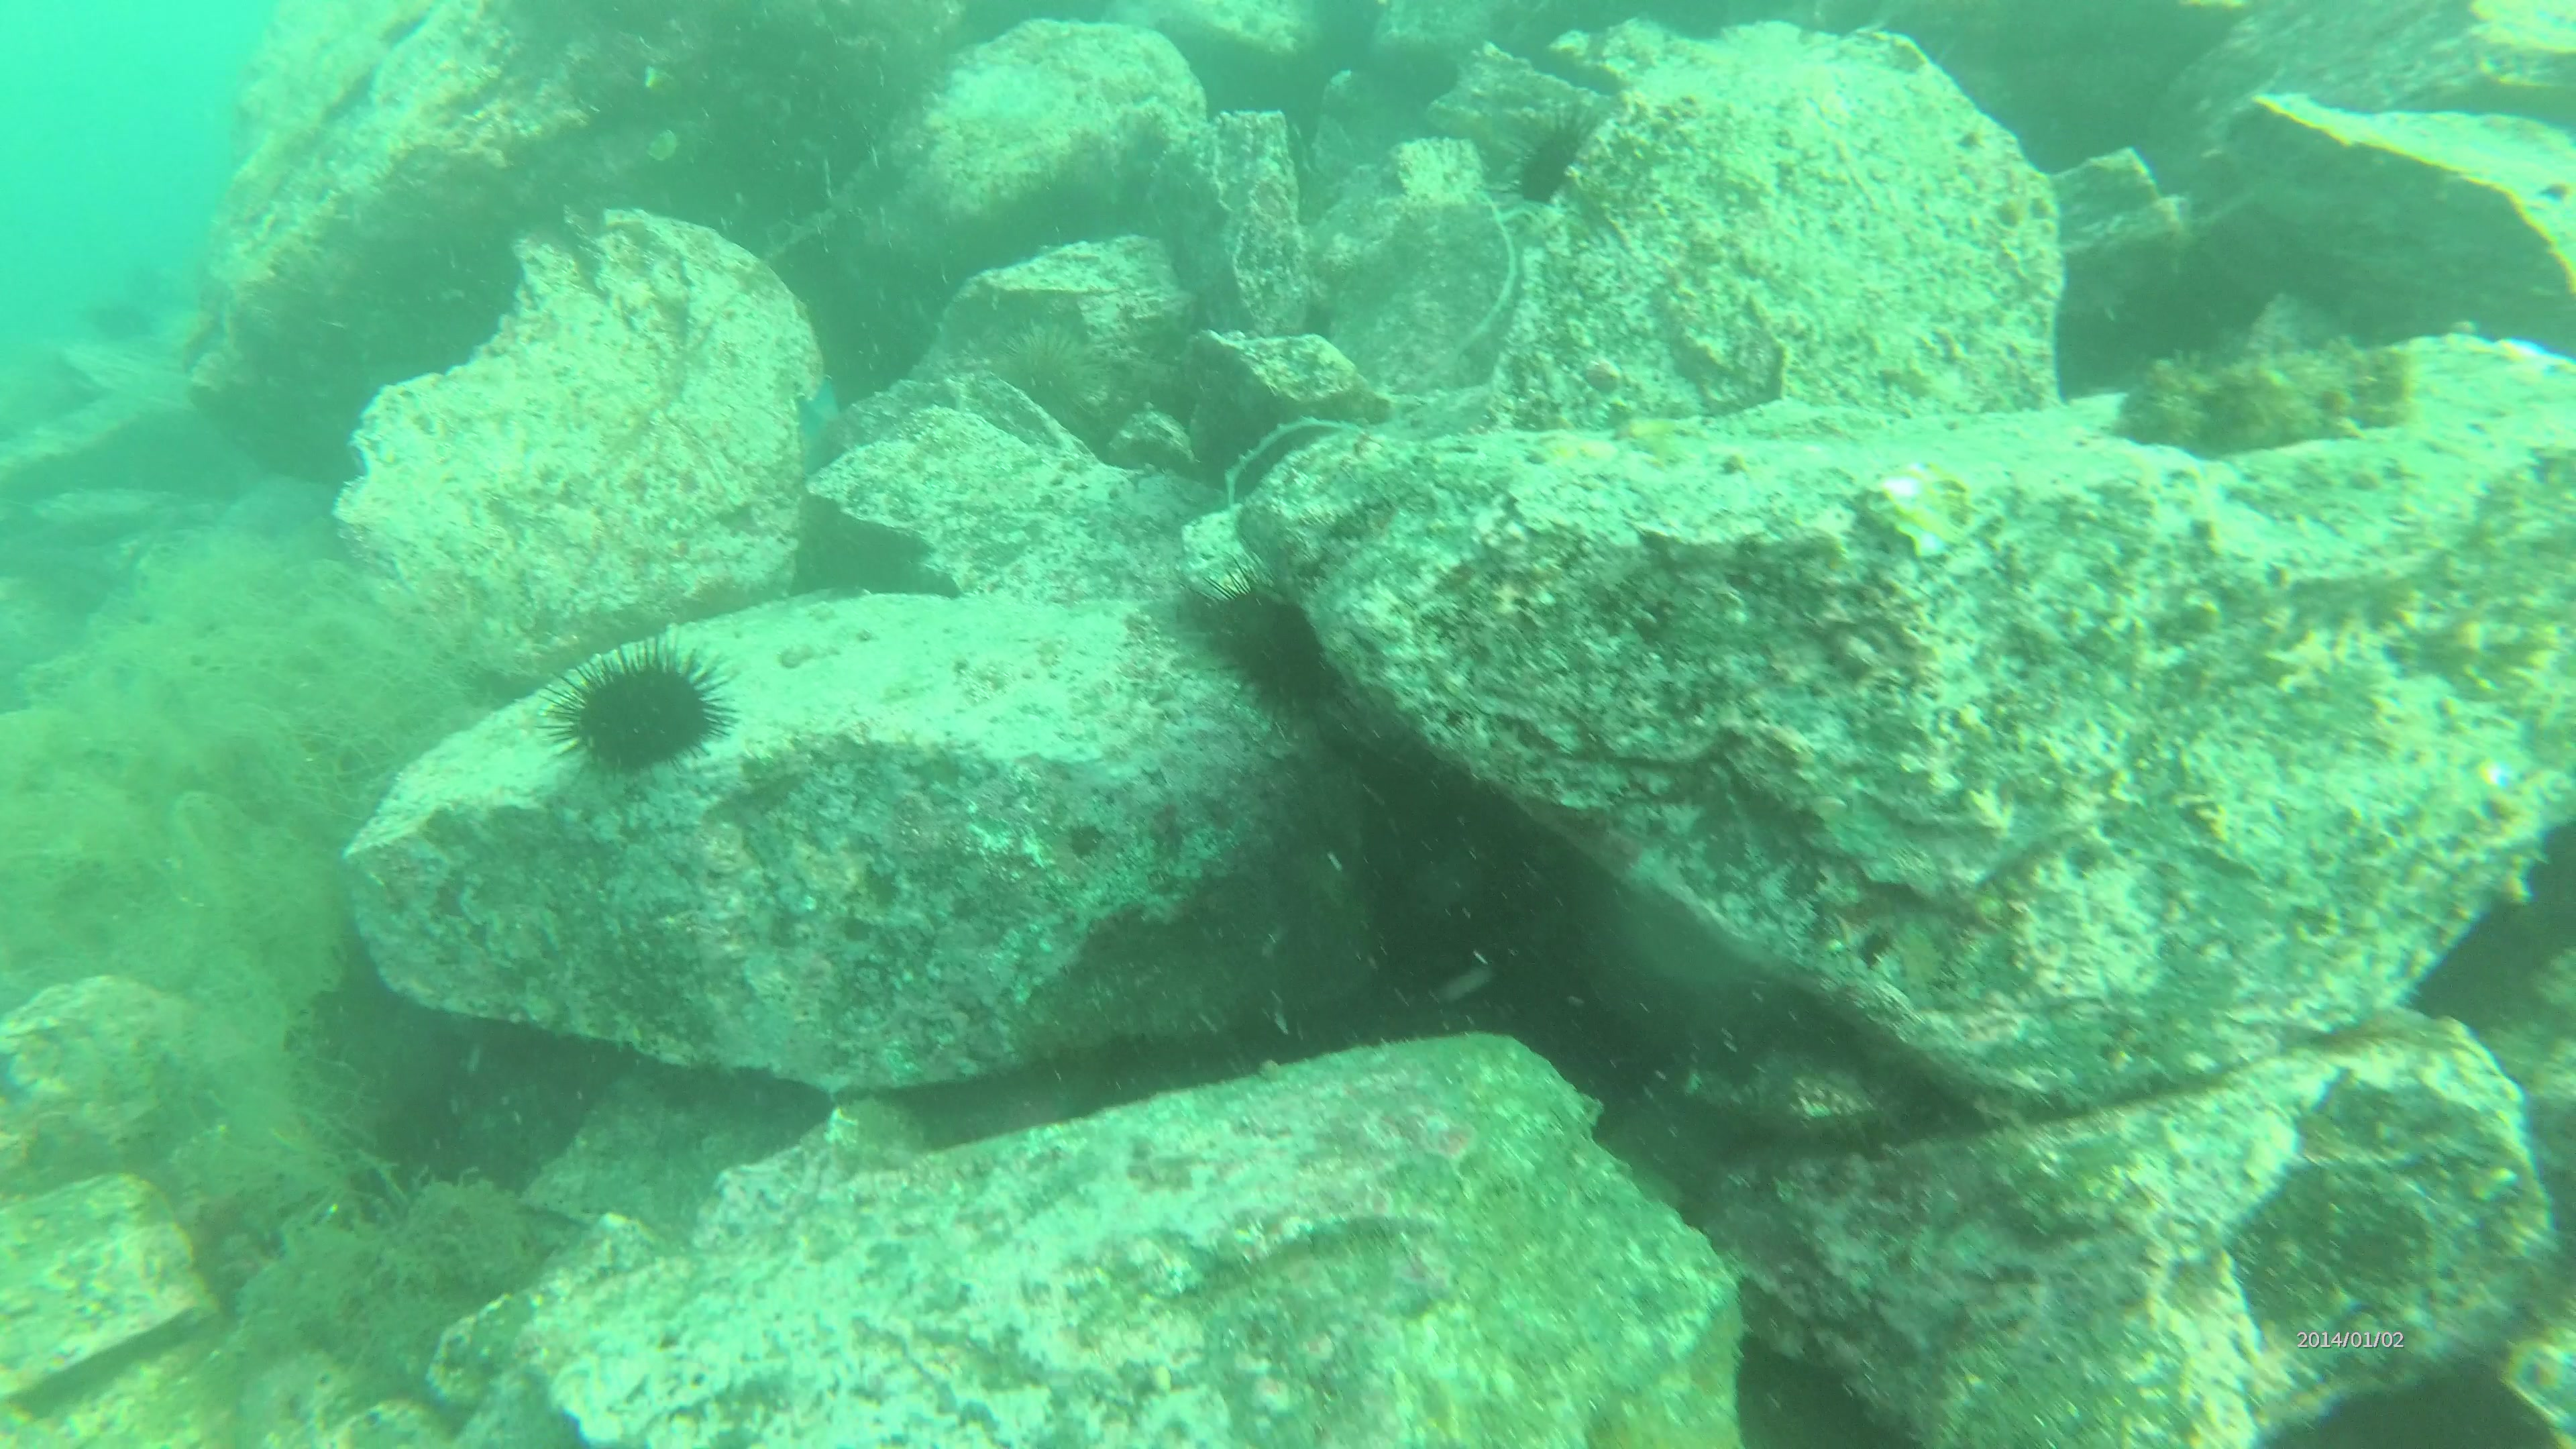echinus: (545, 633, 732, 789), (1219, 582, 1350, 736), (989, 318, 1093, 439), (1507, 113, 1603, 205)
